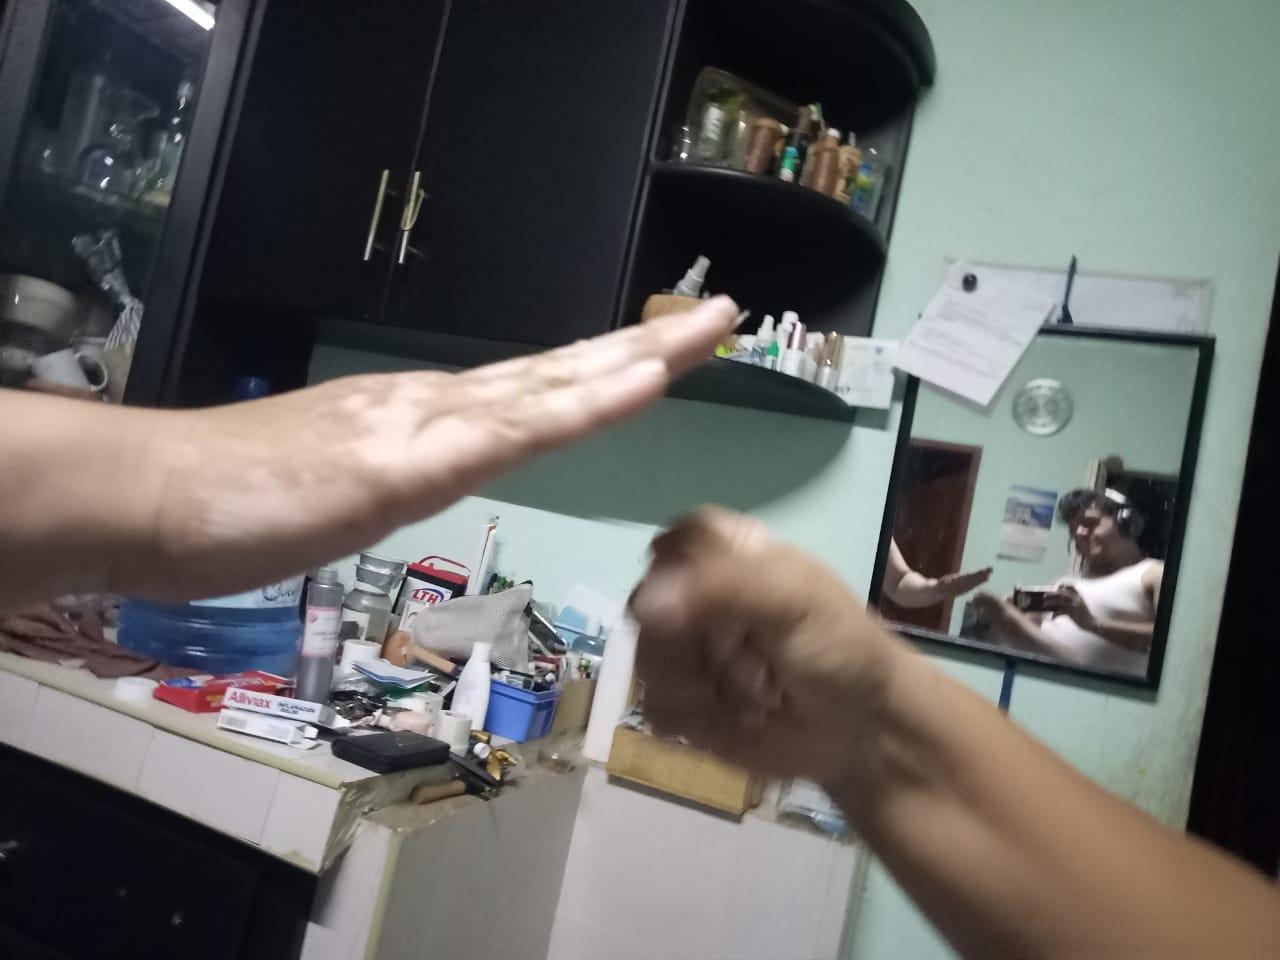Paper: (0, 290, 749, 627)
Stone: (626, 505, 1280, 960)
